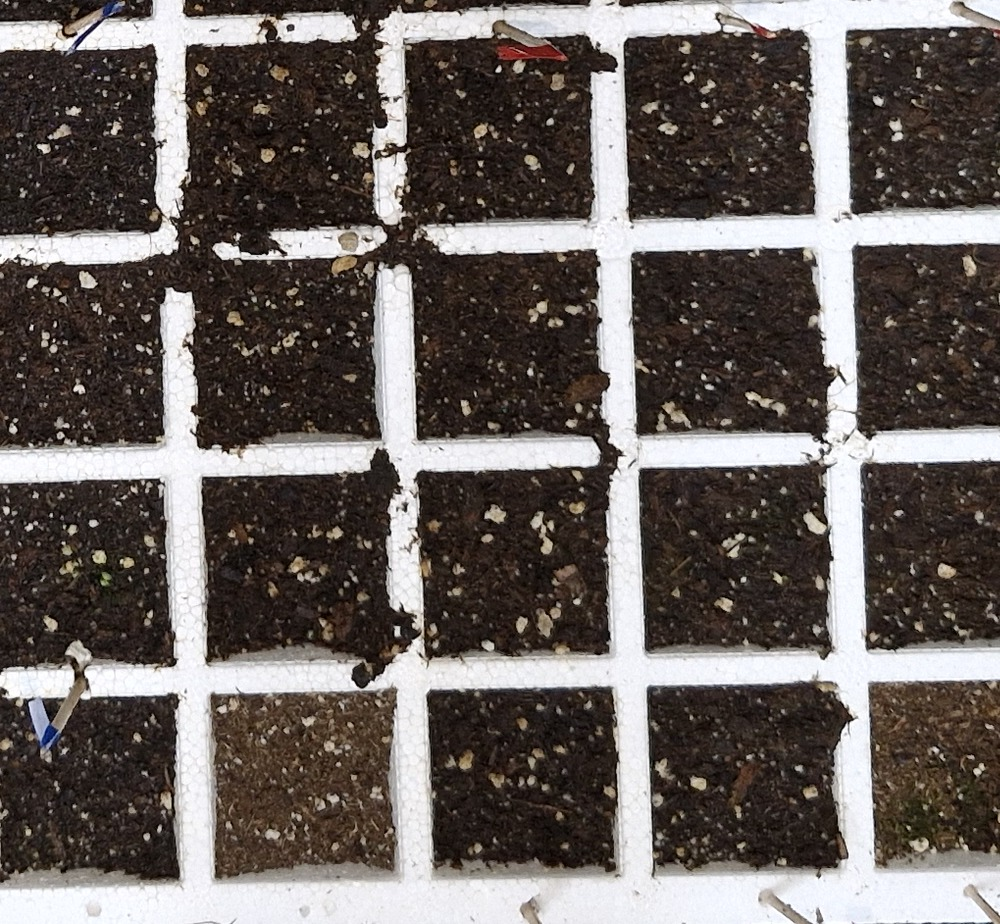Germinacao: (101, 572, 112, 587)
